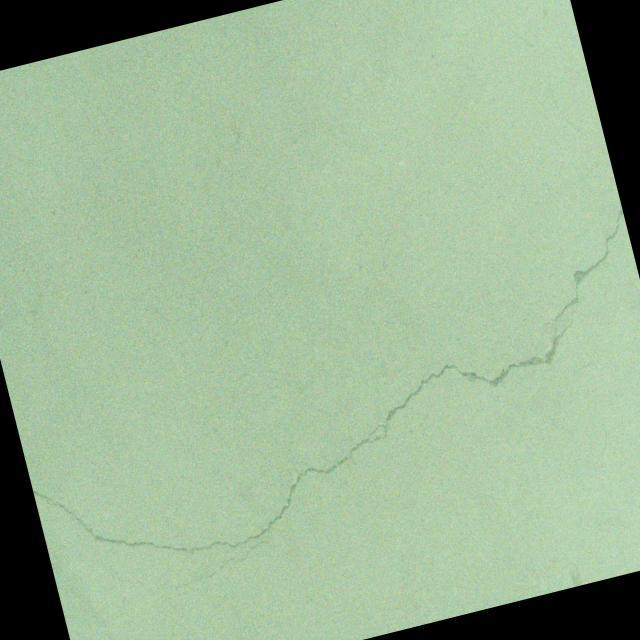crack: (1, 208, 640, 624)
